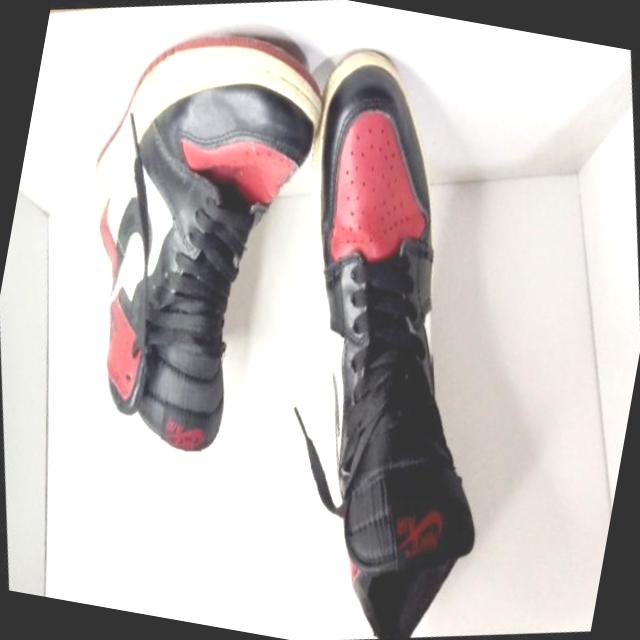nike_fake_jordan: (206, 18, 580, 640), (18, 0, 408, 493)
